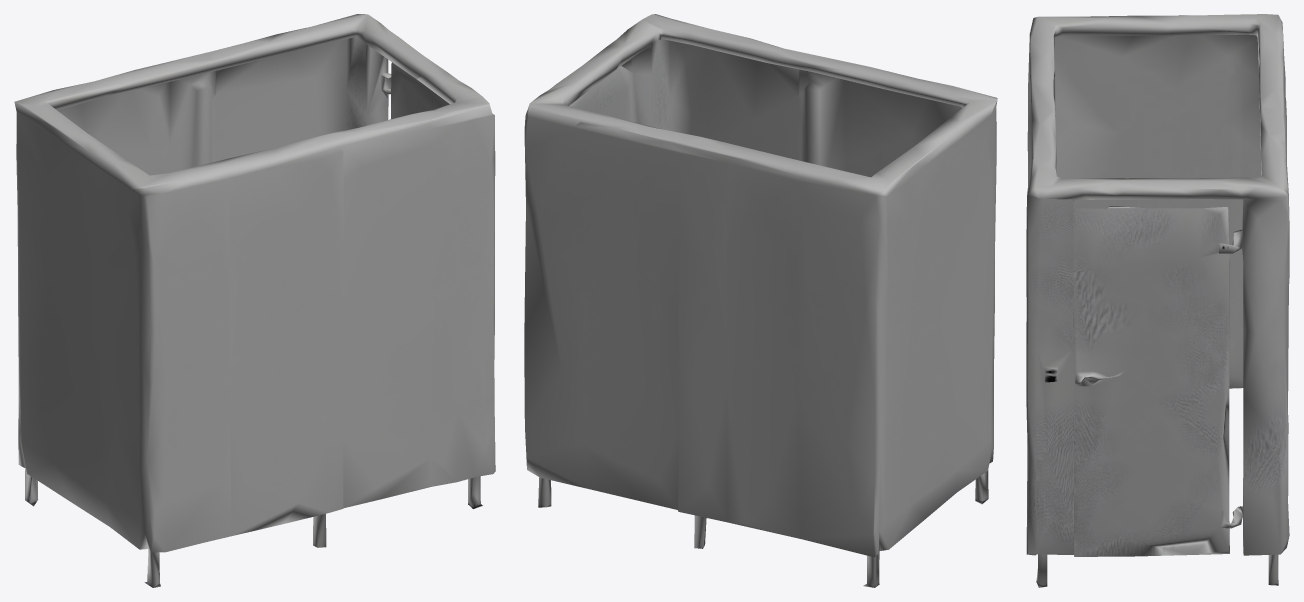
The model's file is stall.glb.
3 views of the same model, side by side, from view 1: azimuth 30°, elevation 25°; view 2: azimuth 150°, elevation 25°; view 3: azimuth 270°, elevation 25° (orthographic).
Parts seen in each view (by area): view 1: tripo_node_dc2739e5-8b31-49fa-856f-3a629a3c0b8a; view 2: tripo_node_dc2739e5-8b31-49fa-856f-3a629a3c0b8a; view 3: tripo_node_dc2739e5-8b31-49fa-856f-3a629a3c0b8a.
Part boxes in pixels (x1=…): tripo_node_dc2739e5-8b31-49fa-856f-3a629a3c0b8a: x1=14, y1=14, x2=495, y2=587; tripo_node_dc2739e5-8b31-49fa-856f-3a629a3c0b8a: x1=524, y1=14, x2=997, y2=587; tripo_node_dc2739e5-8b31-49fa-856f-3a629a3c0b8a: x1=1026, y1=14, x2=1289, y2=587.
Bounding box in the file's own units: 0.969 × 1 × 0.5902.
Materials: 1 (1 with a texture image).
